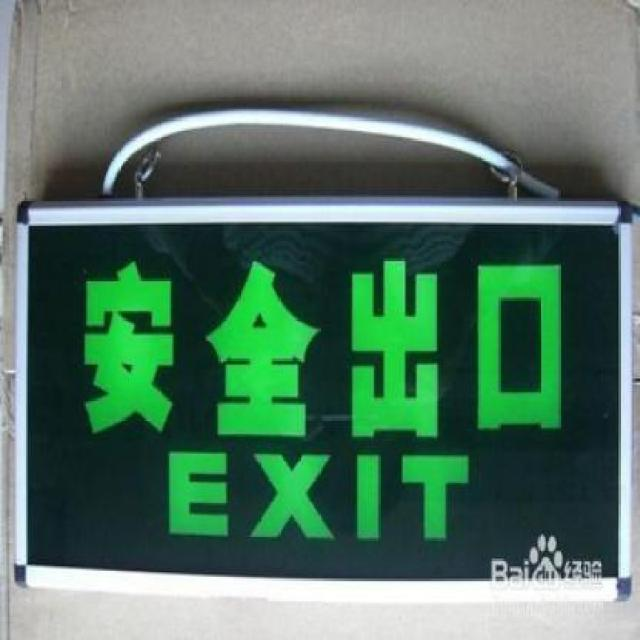exit_sign: (11, 185, 639, 612)
